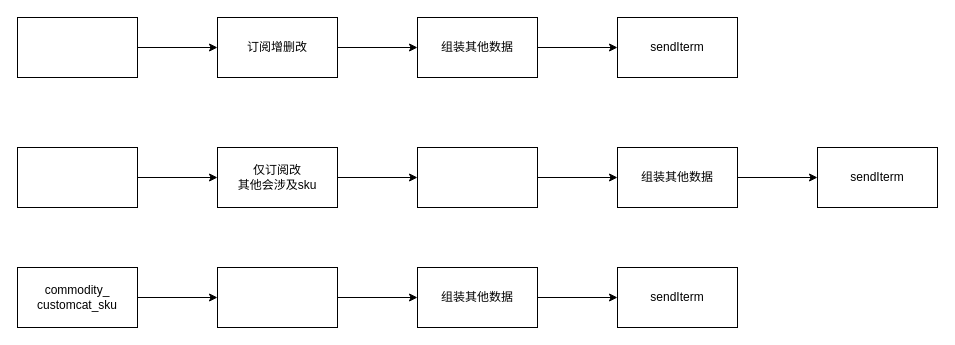
This 955x345 diagram has some shape labels left out. Here are the shapes that lost their labels. From the top down, the box of each, then its label:
(16, 16, 138, 78): commidity_sku
(16, 146, 138, 208): commodity_upc非标 commodity_std_upc commodity_indiv_upc commodity_upc_drug
(416, 146, 538, 208): redislist脚本 拆分成sku 分组发送
(216, 266, 338, 328): 订阅增删(仅限sku)
